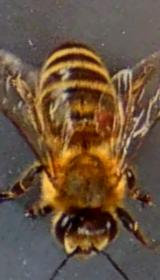varroa_mite: (84, 106, 120, 140)
